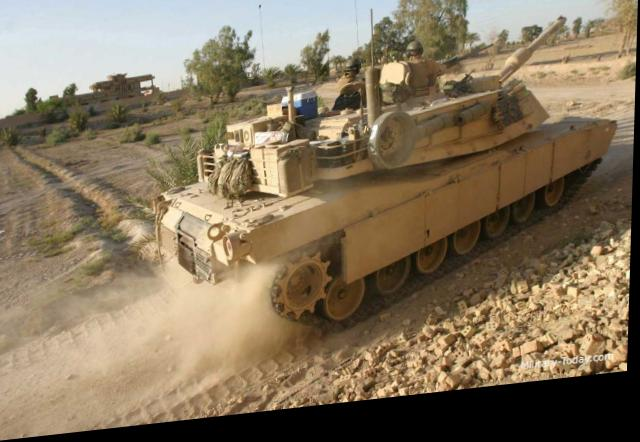tank: (152, 55, 601, 346)
